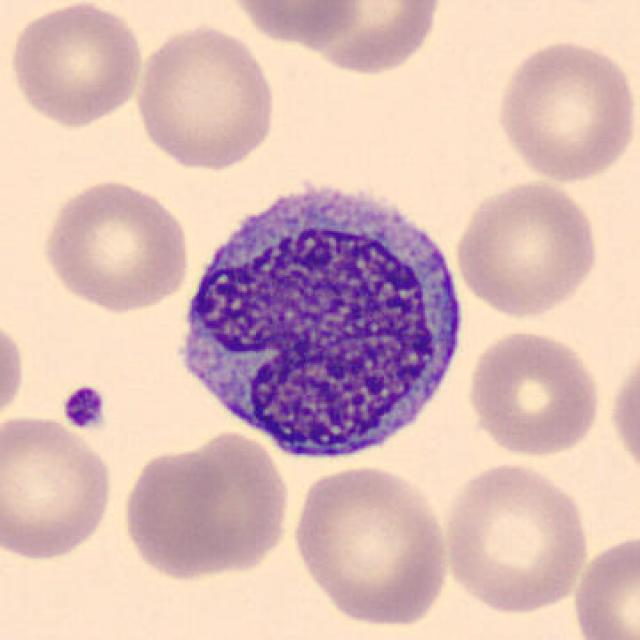Monocyte: (165, 164, 473, 471)
Platelets: (59, 382, 110, 433)
RBC: (288, 460, 453, 630), (118, 432, 292, 584), (437, 457, 592, 617), (132, 19, 279, 173), (37, 174, 194, 316), (450, 176, 602, 321), (491, 35, 636, 185), (462, 326, 604, 460), (6, 0, 148, 129), (0, 412, 117, 562), (290, 0, 448, 78), (567, 529, 640, 640), (219, 0, 366, 48), (606, 341, 640, 488), (0, 313, 28, 430)
